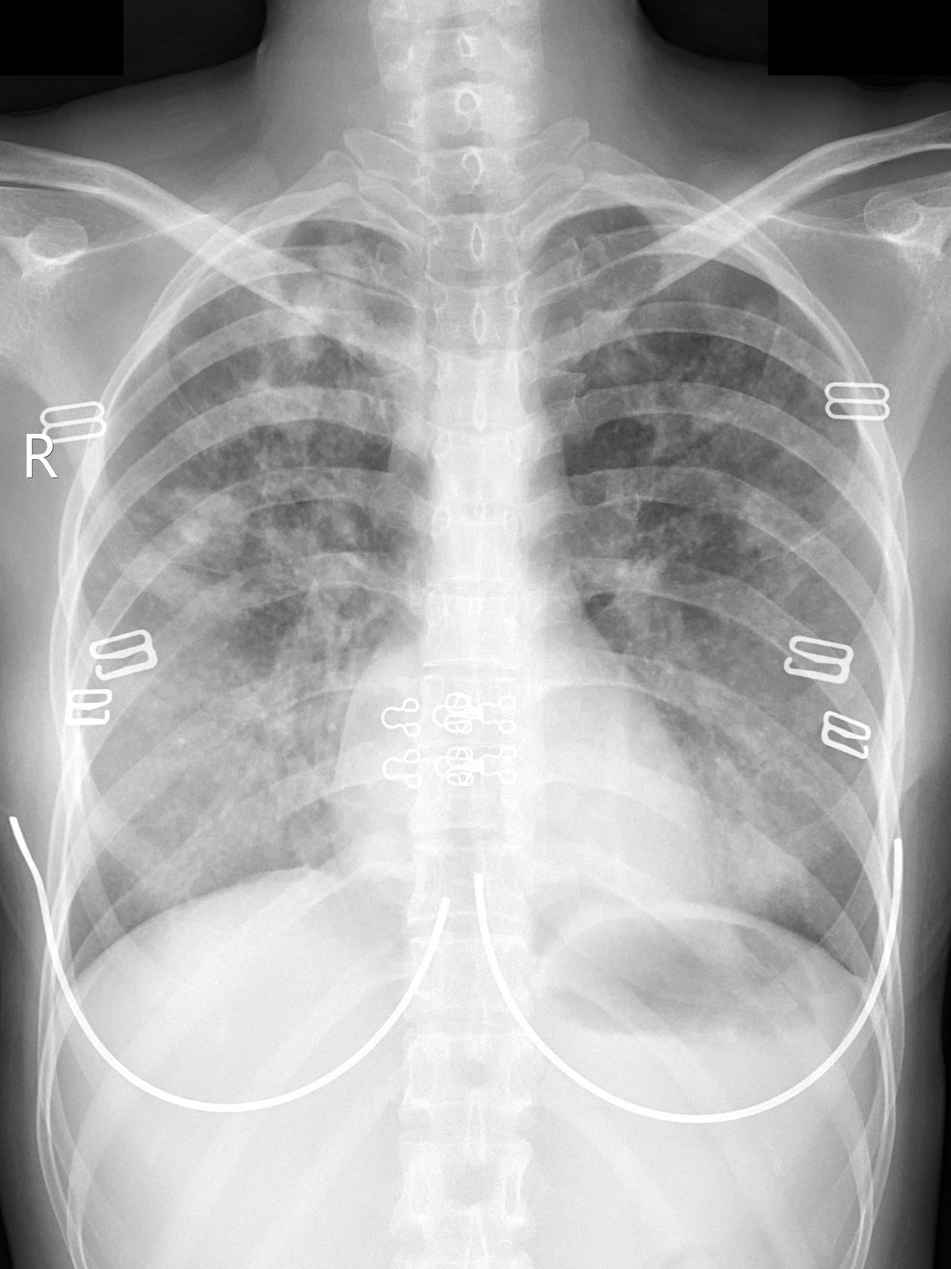Pleural thickening: (851, 945, 886, 1008)
Pulmonary fibrosis: (118, 220, 391, 660), (581, 263, 828, 678)
